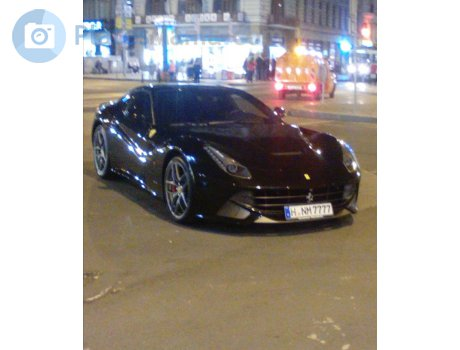License Plates: (289, 205, 332, 215)
